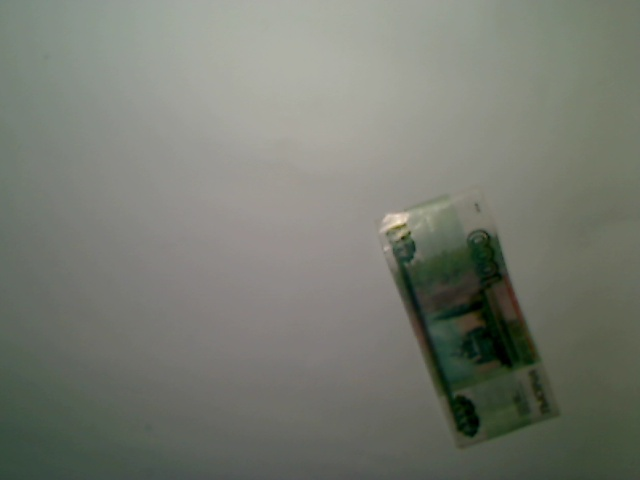banknotes: (374, 179, 565, 452)
